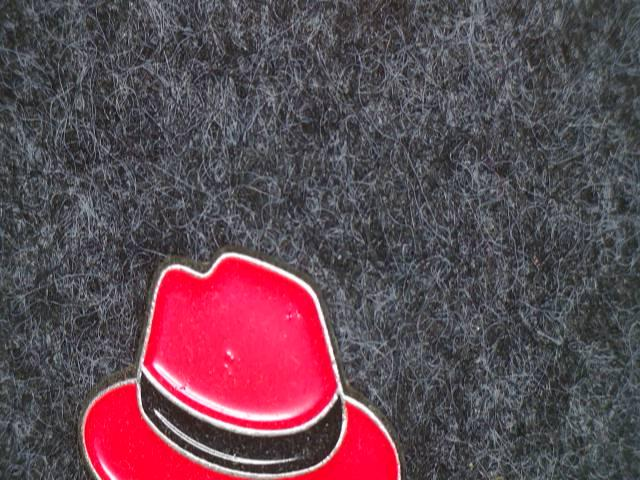Red-Hat: (39, 228, 460, 480)
